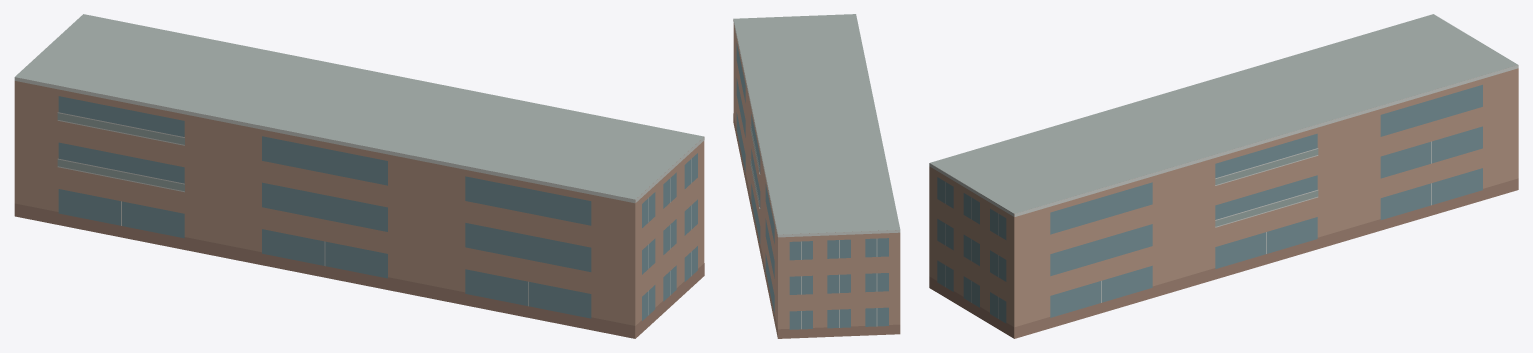
The model's file is survey-upis-32772377.glb.
3 views of the same model, side by side, from view 1: azimuth 30°, elevation 25°; view 2: azimuth 150°, elevation 25°; view 3: azimuth 270°, elevation 25° (orthographic). The views are drawn at different scales.
Visible parts, largest first — view 1: survey-upis-32772377.tmp; view 2: survey-upis-32772377.tmp; view 3: survey-upis-32772377.tmp.
Part boxes in pixels (bbox=[...]): survey-upis-32772377.tmp: bbox=[14, 14, 704, 338]; survey-upis-32772377.tmp: bbox=[733, 14, 900, 338]; survey-upis-32772377.tmp: bbox=[929, 14, 1518, 338].
Size of the model in its own units: 31.38 by 9.15 by 39.08.
